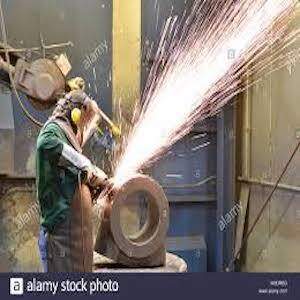heat: (116, 3, 281, 191)
